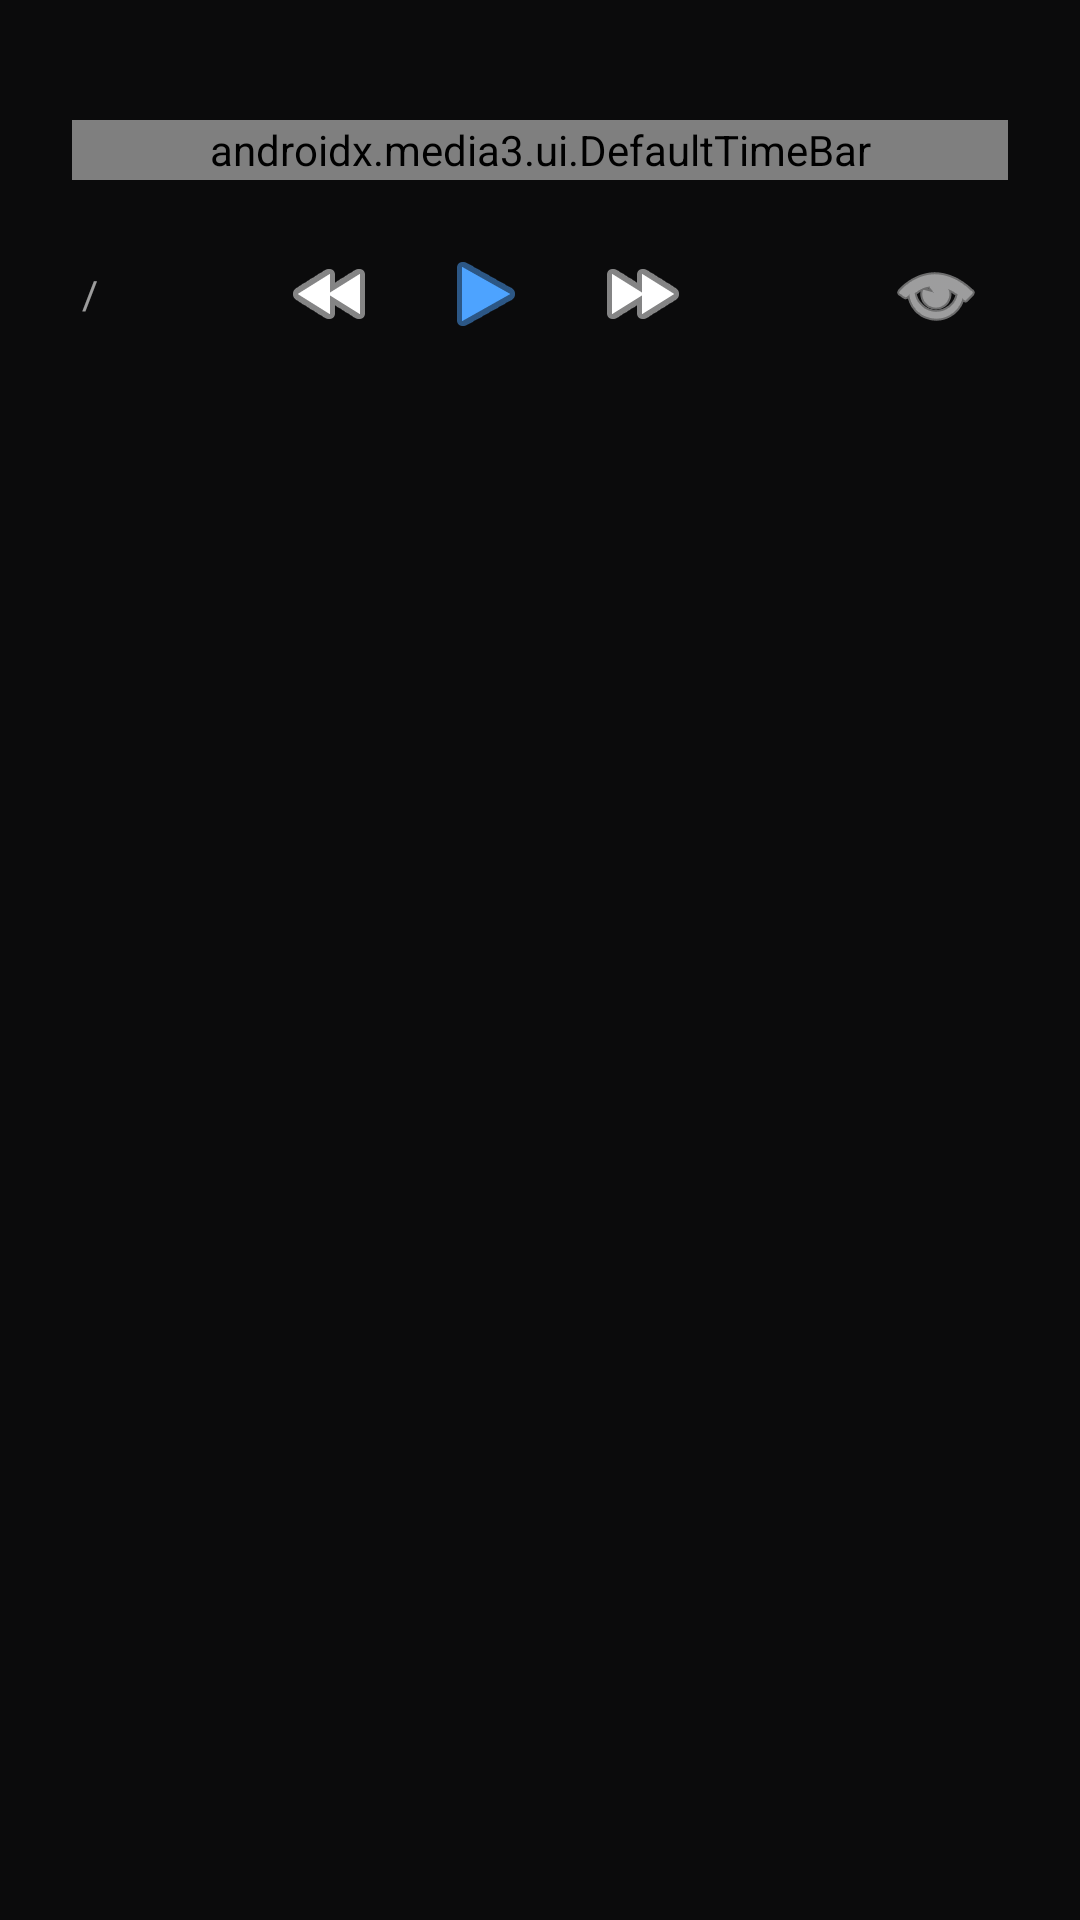

Screen size 1080 x 1920. Icon name, then its center in pixels as (x=x, y=y):
快进: (x=643, y=294)
快退: (x=329, y=294)
播放: (x=486, y=294)
